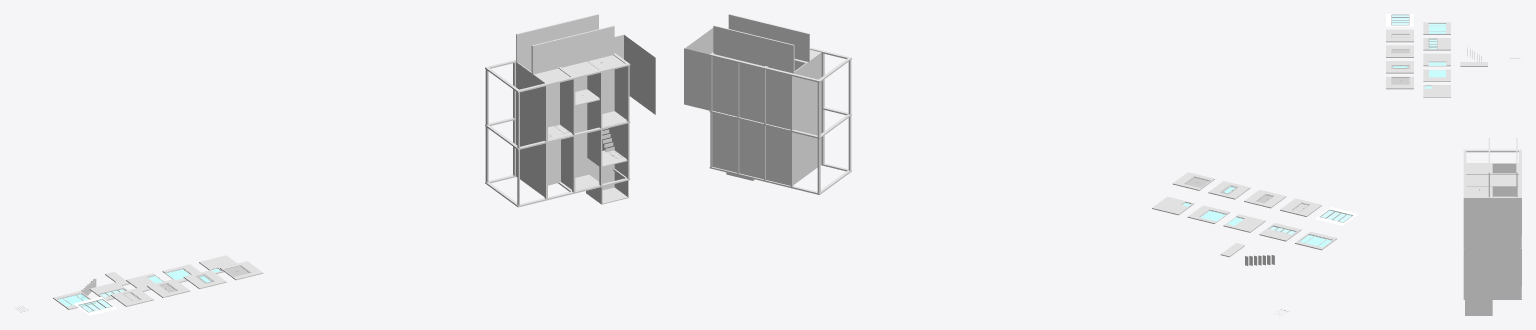
File: window02.gltf
3 renders of one model, left to right at view 1: azimuth 30°, elevation 25°; view 2: azimuth 150°, elevation 25°; view 3: azimuth 270°, elevation 25°, orthographic. The views are drawn at different scales.
Parts seen in each view (by area): view 1: object 9, object 7, object 20, object 32, object 39, object 33, object 21, object 12, object 31, object 14, object 34, object 2 (+7 smaller); view 2: object 5, object 4, object 21, object 32, object 33, object 40, object 20, object 23, object 6, object 9, object 2, object 38 (+6 smaller); view 3: object 39, object 19, object 9, object 34, object 2, object 12, object 33, object 28, object 368, object 31, object 367, object 4 (+14 smaller).
Boxes of the visible parts, left/top/right/bottom form: object 9: left=531, top=55, right=628, bottom=204; object 7: left=548, top=69, right=614, bottom=190; object 20: left=531, top=25, right=614, bottom=74; object 32: left=485, top=117, right=574, bottom=207; object 39: left=624, top=35, right=655, bottom=114; object 33: left=485, top=59, right=575, bottom=149; object 21: left=516, top=14, right=598, bottom=62; object 12: left=534, top=55, right=627, bottom=203; object 31: left=558, top=121, right=630, bottom=193; object 14: left=531, top=130, right=547, bottom=197; object 34: left=559, top=53, right=630, bottom=135; object 2: left=516, top=119, right=530, bottom=186; object 5: left=739, top=63, right=790, bottom=185; object 4: left=712, top=57, right=737, bottom=172; object 21: left=713, top=25, right=794, bottom=73; object 32: left=763, top=108, right=851, bottom=194; object 33: left=763, top=47, right=851, bottom=137; object 40: left=684, top=48, right=710, bottom=110; object 20: left=728, top=14, right=809, bottom=61; object 23: left=739, top=64, right=790, bottom=183; object 6: left=766, top=70, right=790, bottom=129; object 9: left=726, top=49, right=821, bottom=180; object 2: left=740, top=69, right=806, bottom=185; object 38: left=739, top=64, right=763, bottom=122; object 39: left=1464, top=209, right=1520, bottom=259; object 19: left=1465, top=199, right=1520, bottom=298; object 9: left=1465, top=163, right=1492, bottom=315; object 34: left=1463, top=173, right=1521, bottom=248; object 2: left=1492, top=175, right=1518, bottom=196; object 12: left=1466, top=163, right=1492, bottom=196; object 33: left=1463, top=149, right=1521, bottom=174; object 28: left=1423, top=85, right=1450, bottom=97; object 368: left=1386, top=29, right=1413, bottom=42; object 31: left=1463, top=239, right=1521, bottom=299; object 367: left=1386, top=45, right=1413, bottom=57; object 4: left=1516, top=186, right=1520, bottom=298.
Bounding box in the file's own units: 67 × 17 × 14.65.
